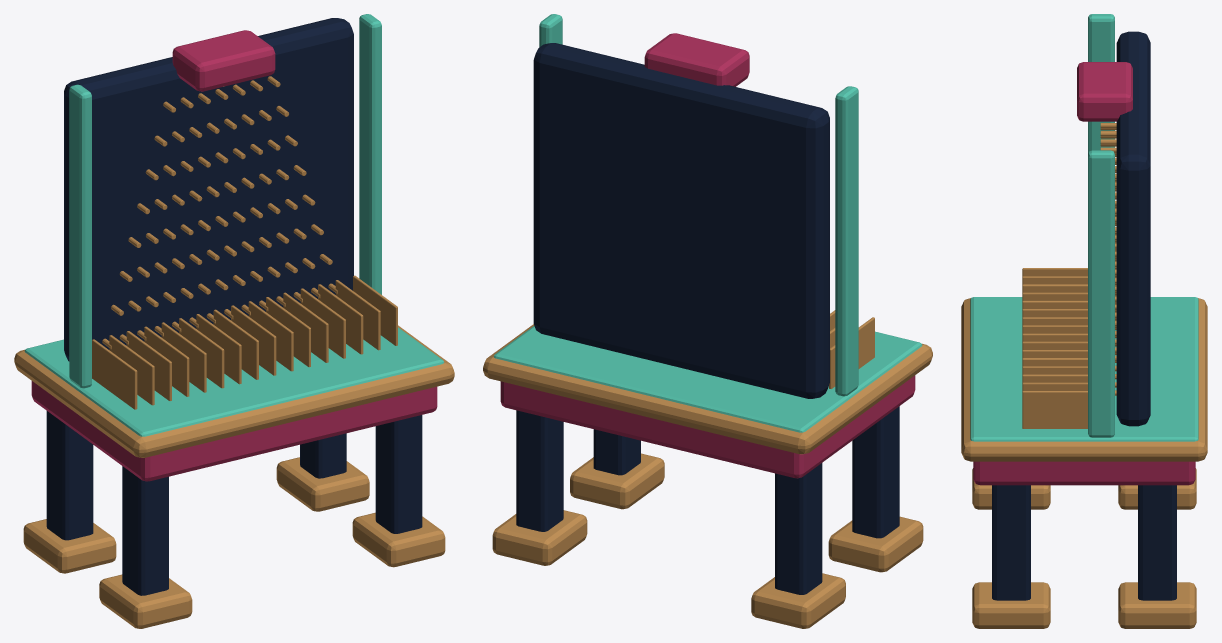
The model's file is Plinko.fbx.
3 renders of one model, left to right at view 1: azimuth 30°, elevation 25°; view 2: azimuth 150°, elevation 25°; view 3: azimuth 270°, elevation 25°, orthographic. The views are drawn at different scales.
Visible parts, largest first — view 1: Plinko.Mesh, Plinko.DropFunnel; view 2: Plinko.Mesh, Plinko.DropFunnel; view 3: Plinko.Mesh, Plinko.DropFunnel.
Boxes of the visible parts, <box> form: Plinko.Mesh: <box>14,14,454,628</box>; Plinko.DropFunnel: <box>172,30,275,91</box>; Plinko.Mesh: <box>483,14,932,628</box>; Plinko.DropFunnel: <box>644,33,749,86</box>; Plinko.Mesh: <box>961,14,1207,628</box>; Plinko.DropFunnel: <box>1077,62,1132,121</box>.
Size of the model in its own units: 210 by 312 by 145.
